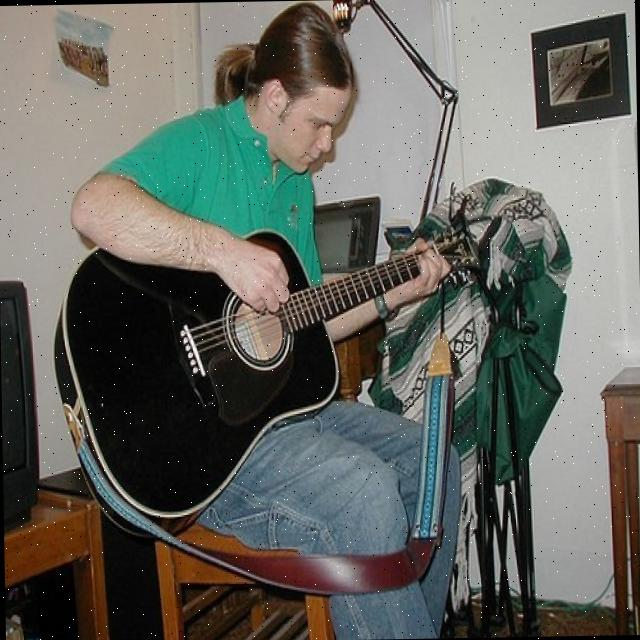guitar: (49, 222, 482, 540)
